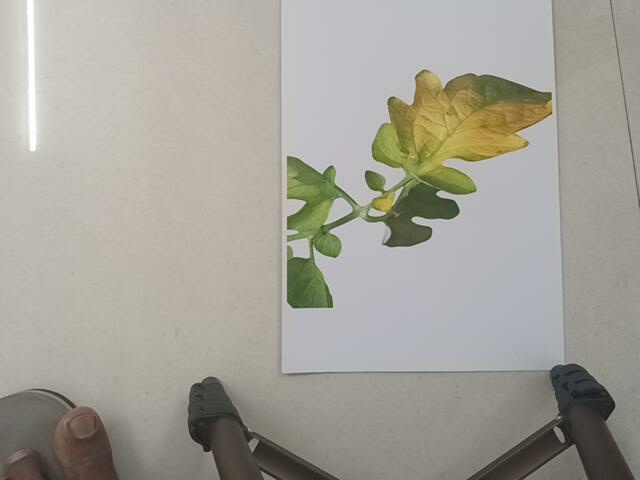Tomamto_Yellow_Disease: (285, 56, 539, 314)
